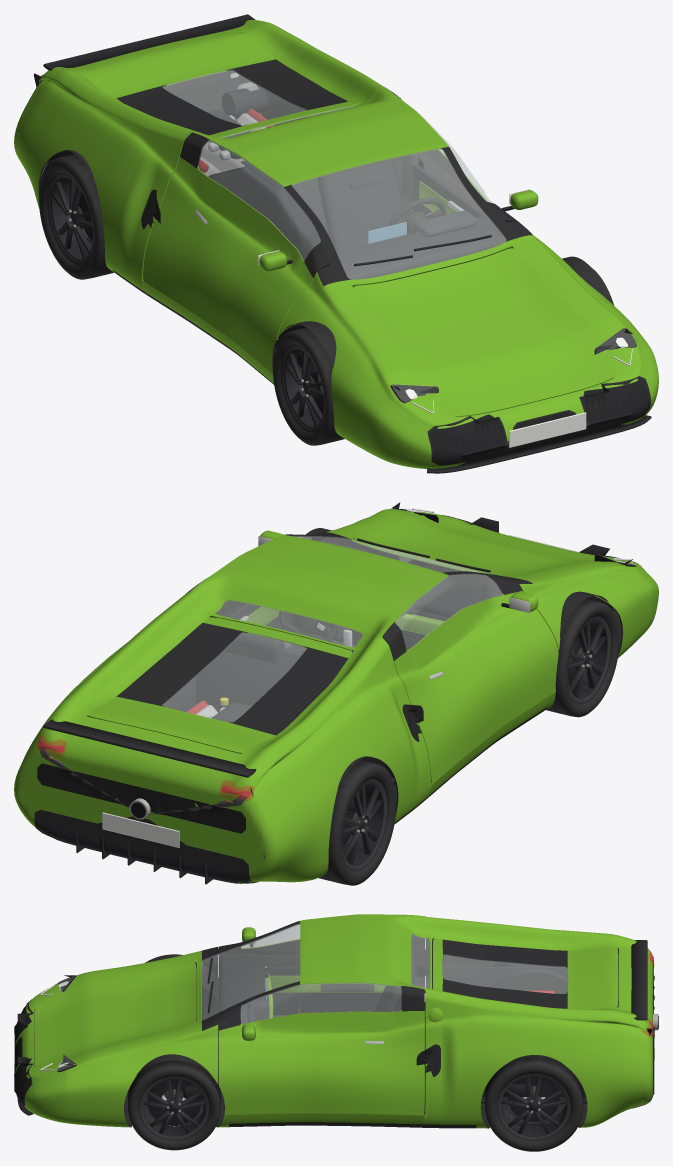
The model's file is temerario.glb.
3 renders of one model, top to bottom at view 1: azimuth 30°, elevation 25°; view 2: azimuth 150°, elevation 25°; view 3: azimuth 270°, elevation 25°, orthographic. The views are drawn at different scales.
Visible parts, largest first — view 1: Body, Hood, Door_FR, Windshield, Tailgate, Seat_FL_Back, Door_FR_Glass, Dash_Top, Tailgate_Glass, Wheel_RR_Tire, Wheel_FR_Tire, Seat_FR_Back (+15 smaller); view 2: Body, Door_FR, Tailgate, Hood, Tailgate_Glass, Diffuser, Rear_Vents, Firewall_Rear, Wheel_RR_Tire, Door_FR_Glass, Wheel_FR_Tire, RearScreen (+14 smaller); view 3: Body, Door_FL, Hood, Tailgate, Windshield, Door_FL_Glass, Wheel_RL_Tire, Tailgate_Glass, Wheel_FL_Tire, Door_FR_Card, Dash_Top, Door_FR (+19 smaller).
Part boxes in pixels (x1,y1,x2,y2): Body: [14, 19, 658, 468]; Hood: [353, 248, 614, 416]; Door_FR: [143, 132, 328, 373]; Windshield: [292, 148, 506, 279]; Tailgate: [88, 32, 352, 137]; Seat_FL_Back: [317, 159, 408, 251]; Door_FR_Glass: [198, 140, 320, 260]; Dash_Top: [304, 215, 506, 279]; Tailgate_Glass: [162, 70, 306, 125]; Wheel_RR_Tire: [38, 154, 113, 279]; Wheel_FR_Tire: [273, 327, 344, 445]; Seat_FR_Back: [208, 166, 299, 251]; Body: [14, 509, 658, 883]; Door_FR: [382, 575, 558, 783]; Tailgate: [87, 617, 352, 753]; Hood: [353, 516, 613, 576]; Tailgate_Glass: [162, 632, 306, 721]; Diffuser: [34, 809, 258, 883]; Rear_Vents: [37, 763, 245, 833]; Firewall_Rear: [196, 648, 393, 778]; Wheel_RR_Tire: [318, 759, 396, 885]; Door_FR_Glass: [395, 574, 502, 649]; Wheel_FR_Tire: [546, 598, 619, 717]; RearScreen: [215, 600, 362, 646]; Body: [15, 914, 653, 1128]; Door_FL: [219, 986, 424, 1115]; Hood: [35, 962, 196, 1066]; Tailgate: [432, 938, 618, 1009]; Windshield: [202, 924, 299, 1019]; Door_FL_Glass: [241, 982, 401, 1024]; Wheel_RL_Tire: [485, 1056, 583, 1151]; Tailgate_Glass: [442, 954, 567, 993]; Wheel_FL_Tire: [128, 1060, 220, 1150]; Door_FR_Card: [266, 966, 381, 1015]; Dash_Top: [219, 955, 264, 1024]; Door_FR: [219, 935, 424, 987].
Bounding box in the file's own units: 2.01 × 1.22 × 4.77.
